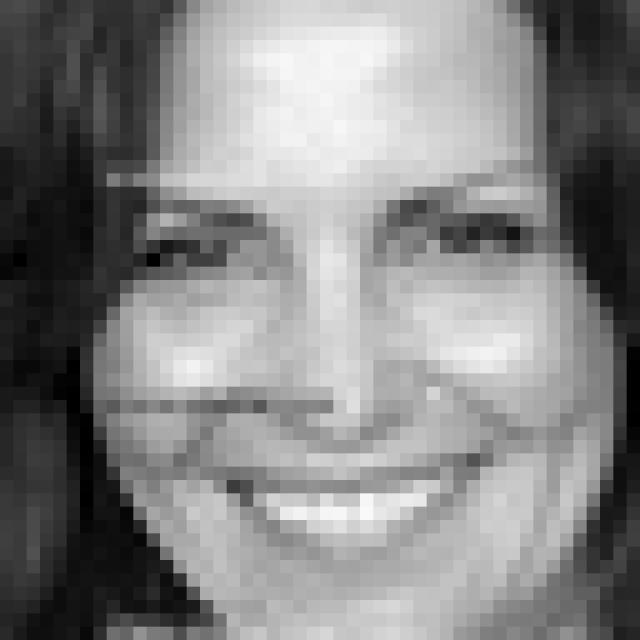happy: (125, 156, 558, 579)
